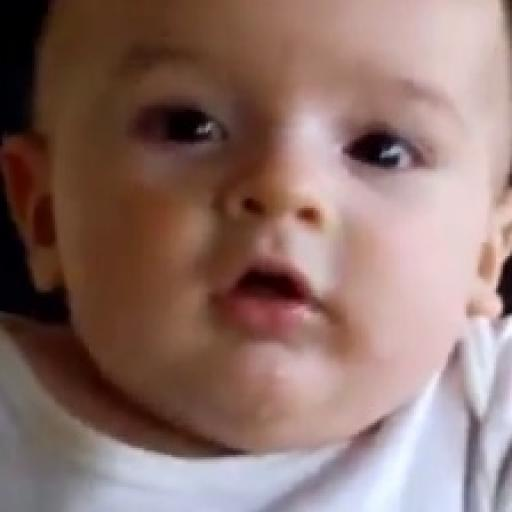Autism: (38, 6, 512, 503)
